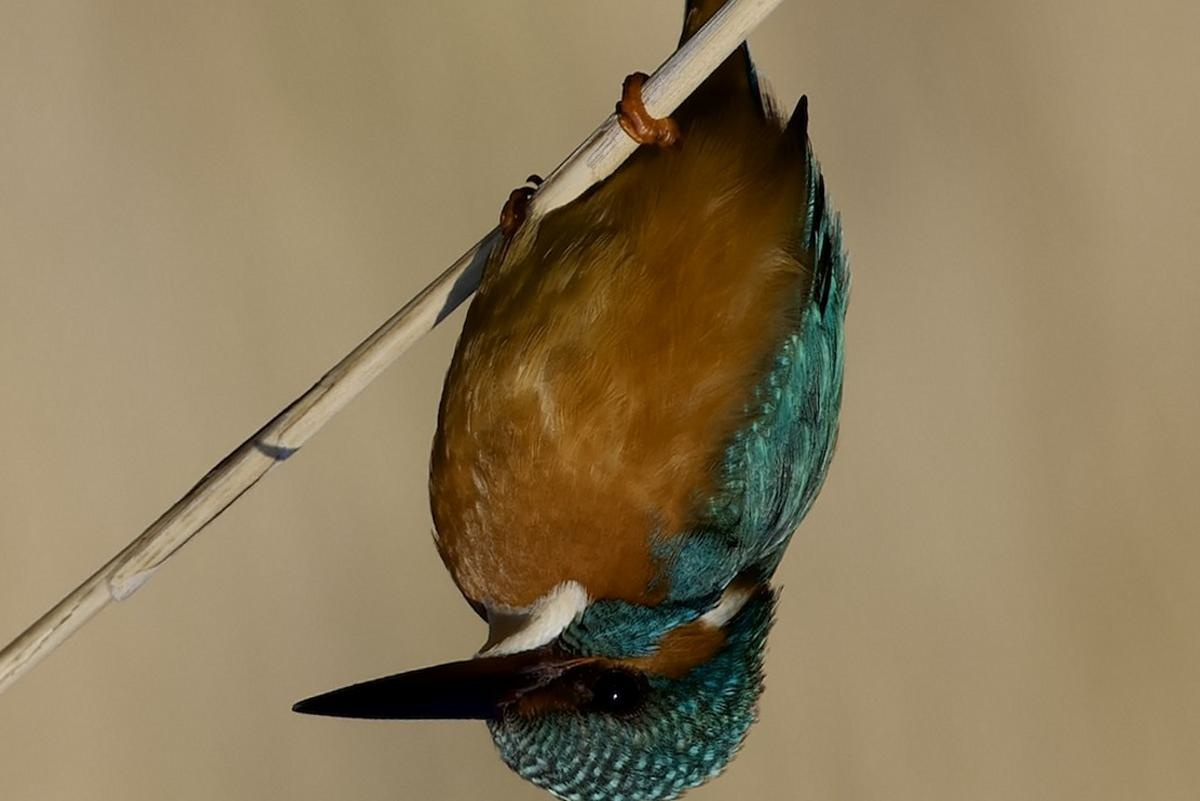kingfisher: (360, 15, 878, 789)
